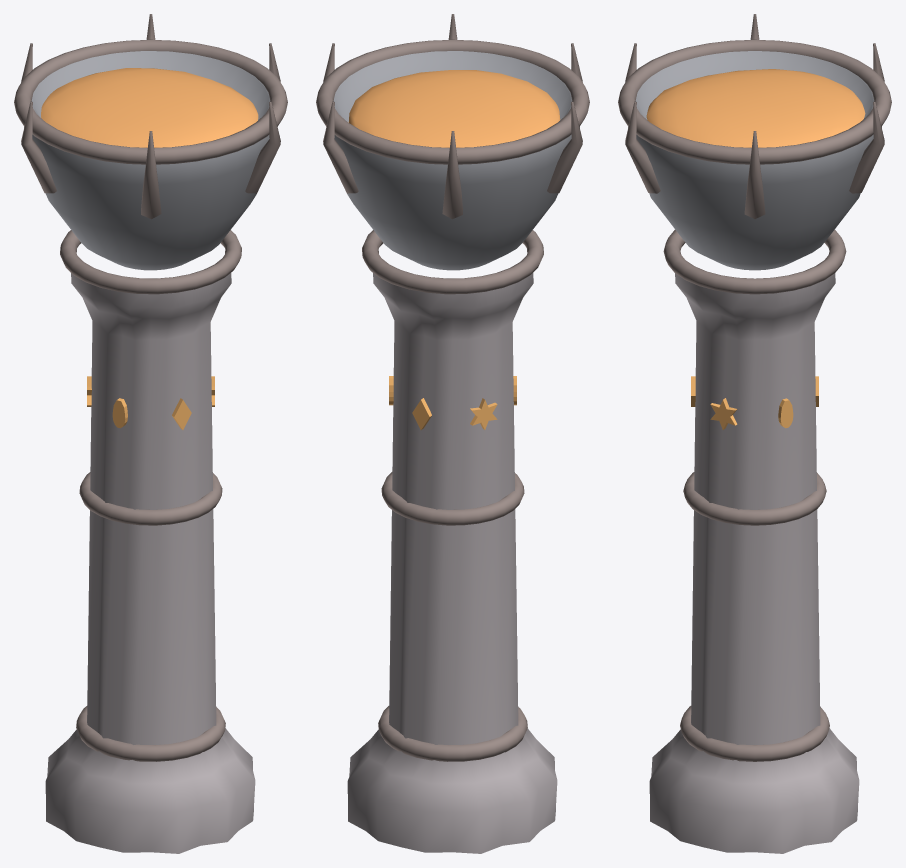
Rendered from FireBrazier.glb.
3 renders of one model, left to right at view 1: azimuth 30°, elevation 25°; view 2: azimuth 150°, elevation 25°; view 3: azimuth 270°, elevation 25°, orthographic.
Parts seen in each view (by area): view 1: Stone, Metal, Trim, Coals, Glow; view 2: Stone, Metal, Trim, Coals, Glow; view 3: Stone, Metal, Trim, Coals, Glow.
Part boxes in pixels (bbox=[...]): Stone: bbox=[45, 273, 255, 853]; Metal: bbox=[24, 51, 270, 270]; Trim: bbox=[14, 14, 287, 761]; Coals: bbox=[41, 68, 258, 147]; Glow: bbox=[87, 376, 214, 429]; Stone: bbox=[347, 273, 557, 853]; Metal: bbox=[333, 51, 579, 270]; Trim: bbox=[316, 14, 589, 761]; Coals: bbox=[348, 70, 560, 147]; Glow: bbox=[389, 376, 516, 429]; Stone: bbox=[649, 273, 859, 853]; Metal: bbox=[628, 51, 881, 270]; Trim: bbox=[618, 14, 891, 761]; Coals: bbox=[646, 69, 865, 147]; Glow: bbox=[691, 376, 818, 429].
Bounding box in the file's own units: 10.66 × 28.91 × 9.74.
